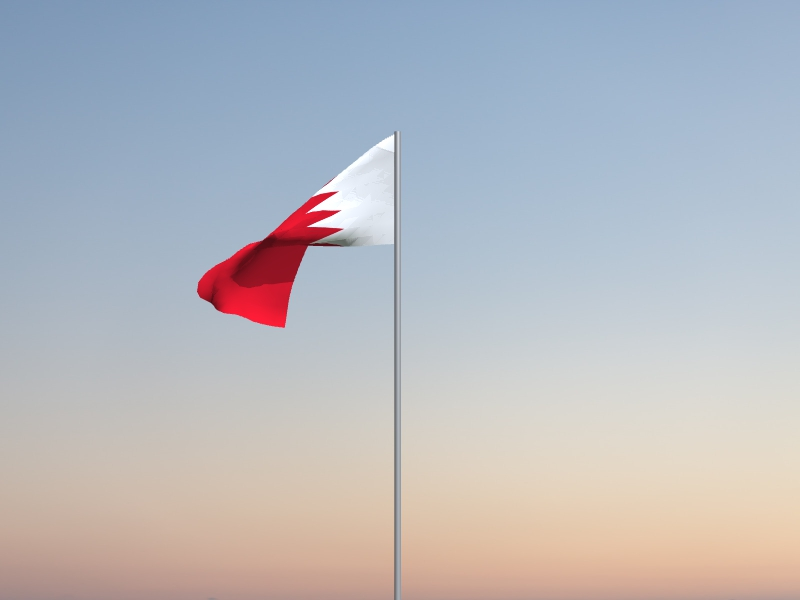bh: (196, 135, 395, 330)
